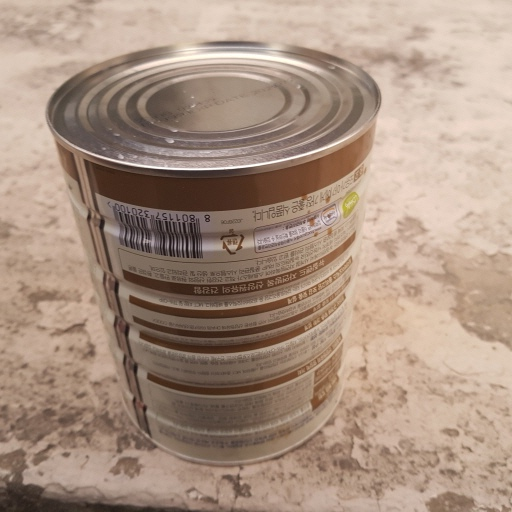Metal_1: (43, 41, 383, 466)
